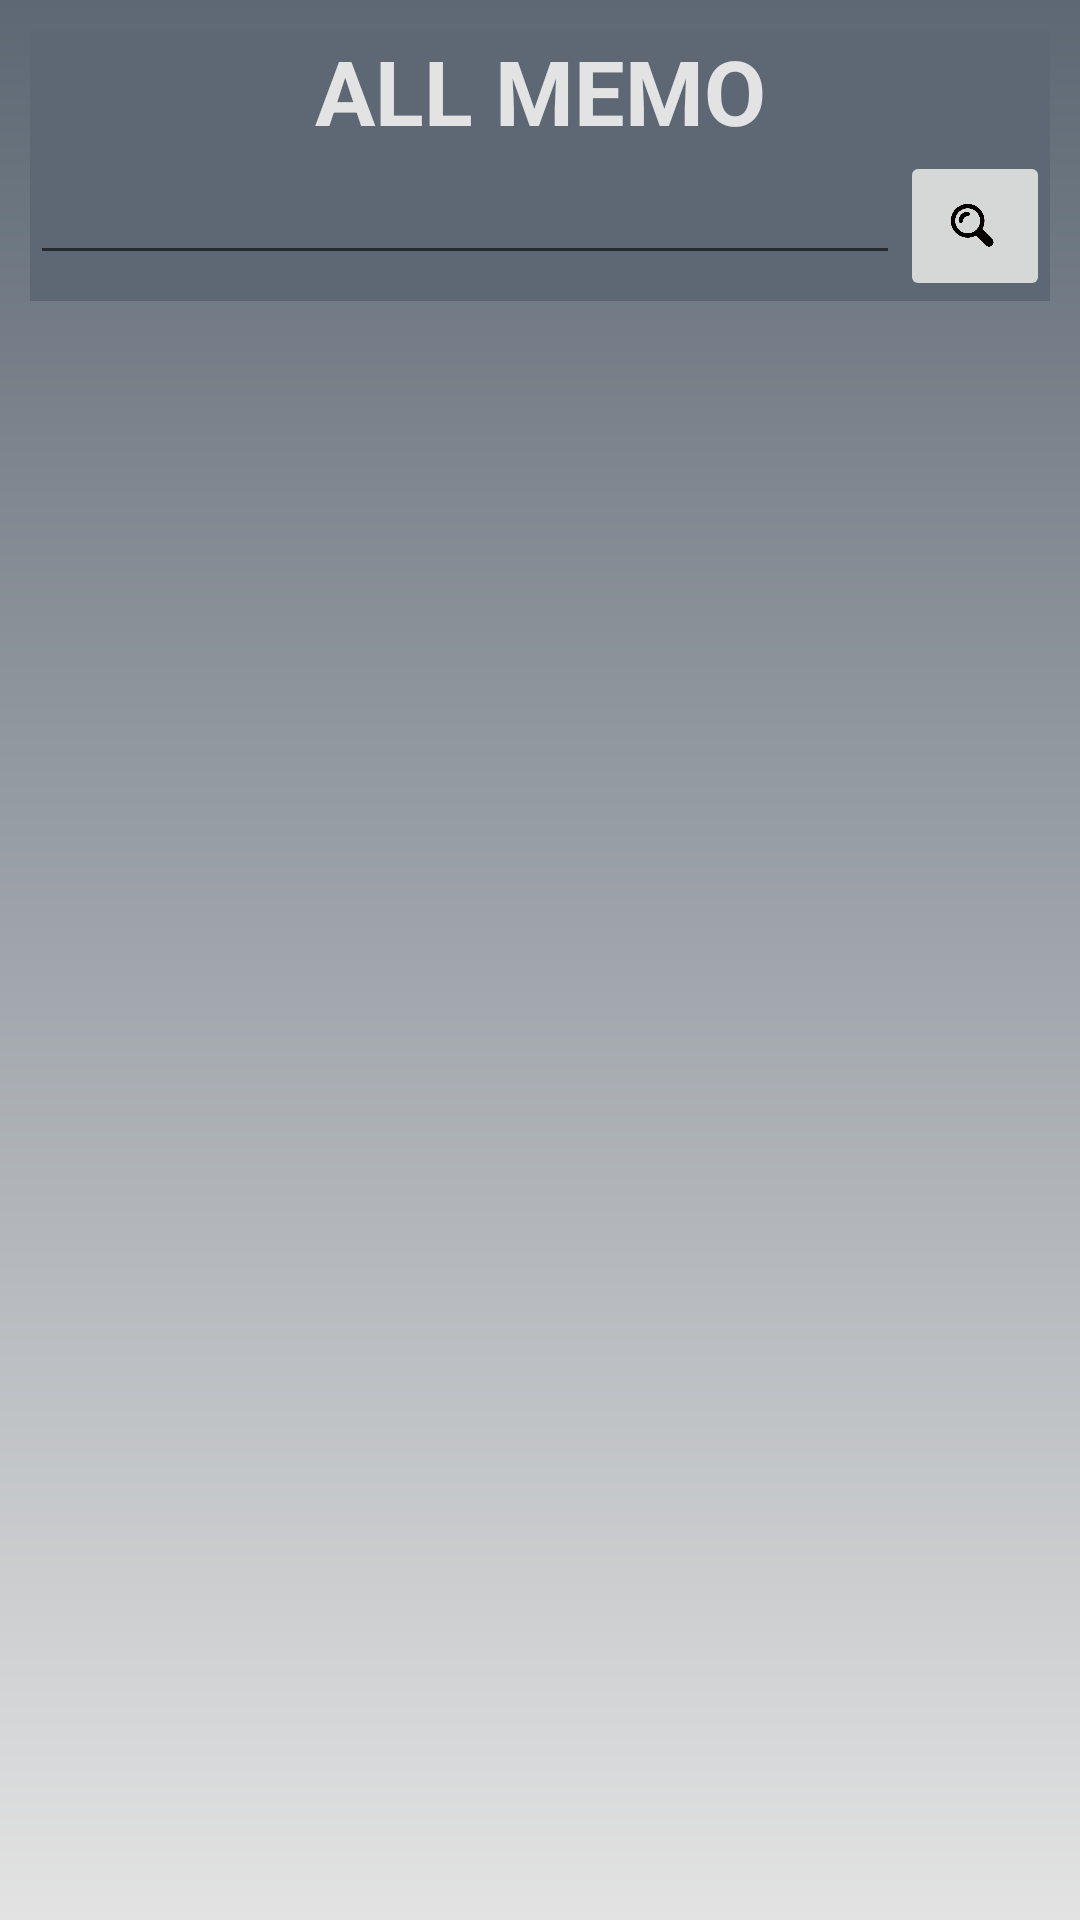

Named icons in this screenshot (1080x1920) and their centers, (x=x, y=y):
search: (x=975, y=226)
